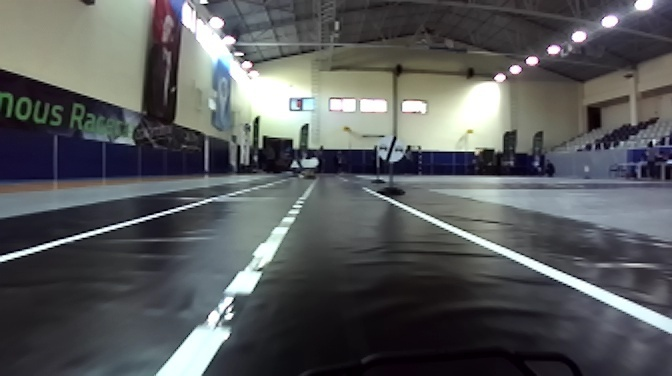sollama_serbest: (374, 134, 404, 166)
